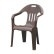plastic: (11, 3, 44, 49)
